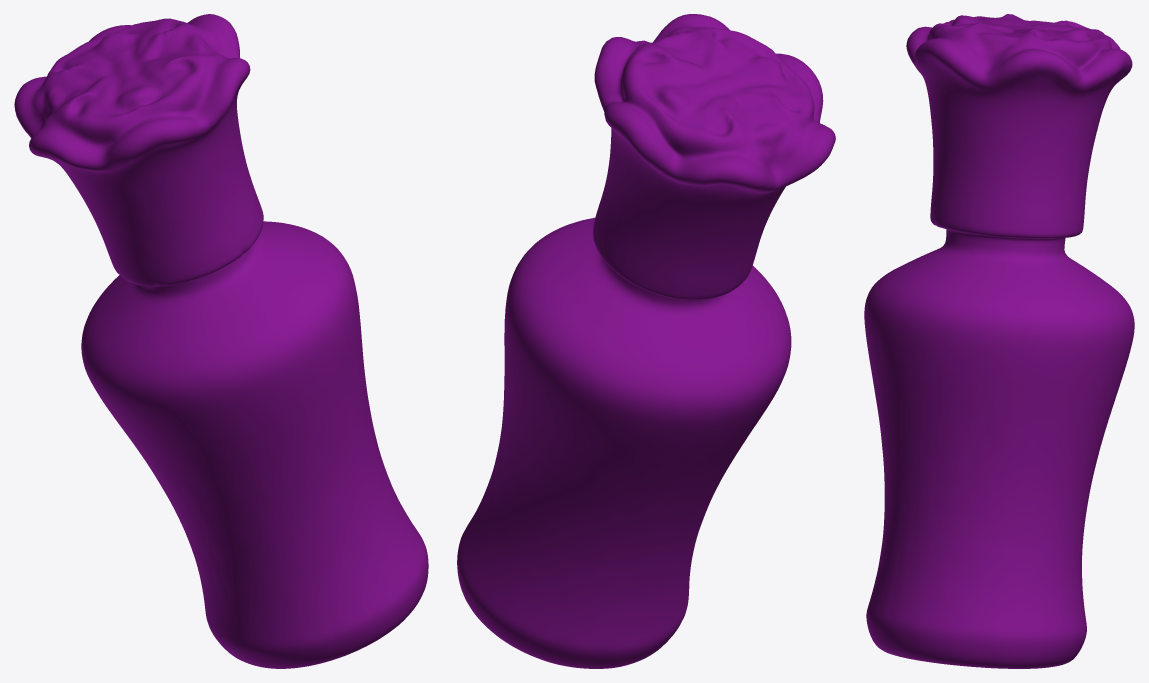
The model's file is purple_perfume_bottle1.glb.
3 views of the same model, side by side, from view 1: azimuth 30°, elevation 25°; view 2: azimuth 150°, elevation 25°; view 3: azimuth 270°, elevation 25° (orthographic). The views are drawn at different scales.
Visible parts, largest first — view 1: Mesh1_Mesh1.026; view 2: Mesh1_Mesh1.026; view 3: Mesh1_Mesh1.026.
Part boxes in pixels (x1,y1,x2,y2): Mesh1_Mesh1.026: (14,14,428,668); Mesh1_Mesh1.026: (457,14,835,668); Mesh1_Mesh1.026: (864,14,1134,668).
Bounding box in the file's own units: 1.24 × 2.04 × 0.8388.
